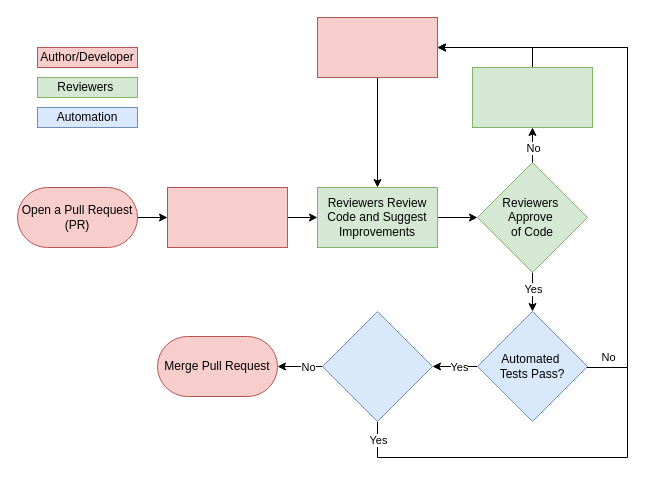
Image size: 653x483. Some labels were removed from this diagram. The shapes that lost their labels are listed below. From the top down, each one's box as (x1, y1, x2, y2) in pixels, then its label:
(316, 16, 438, 78): Commit Fixes to Code
(472, 66, 592, 128): Reviewers Add Comments to explain requested changes to author
(166, 186, 288, 248): Assign Reviewers
(322, 310, 432, 422): Merge Conflicts Detected?
